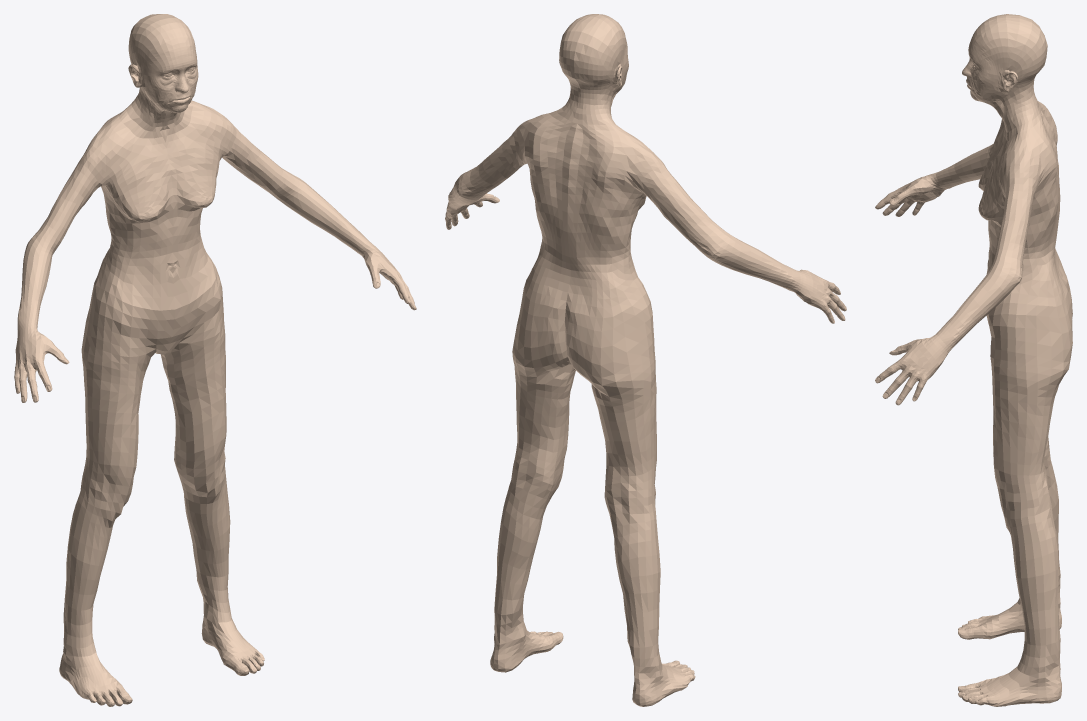
Rendered from female-elder-lean-medium.glb.
The picture shows the model from 3 angles, left to right: view 1: azimuth 30°, elevation 25°; view 2: azimuth 150°, elevation 25°; view 3: azimuth 270°, elevation 25°; orthographic projection.
Parts seen in each view (by area): view 1: world; view 2: world; view 3: world.
Boxes of the visible parts, x1,y1,x2,y2 form: world: [14, 14, 416, 706]; world: [445, 14, 846, 706]; world: [875, 14, 1072, 706].
Bounding box in the file's own units: 1.13 × 1.8 × 0.4967.
